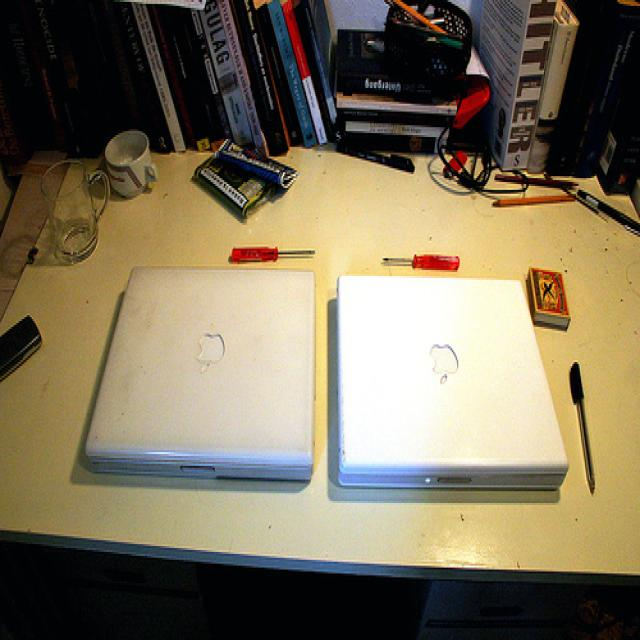screw driver: (365, 227, 469, 288), (211, 227, 330, 278)
